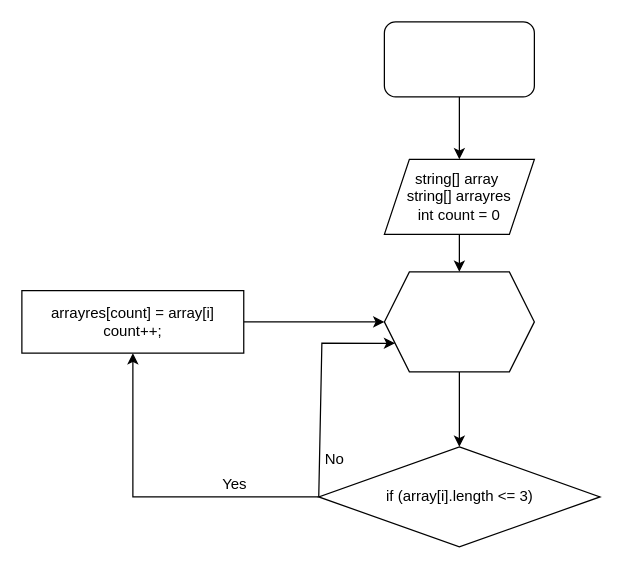
Some shapes in this 623 by 569 pixel diagram are drawn without their labels. The centre of each missing label's shape, as x and y in pixels:
"for (int i = 0; i < array.length; i++)" goes at point (458, 321).
"Start" goes at point (458, 59).
